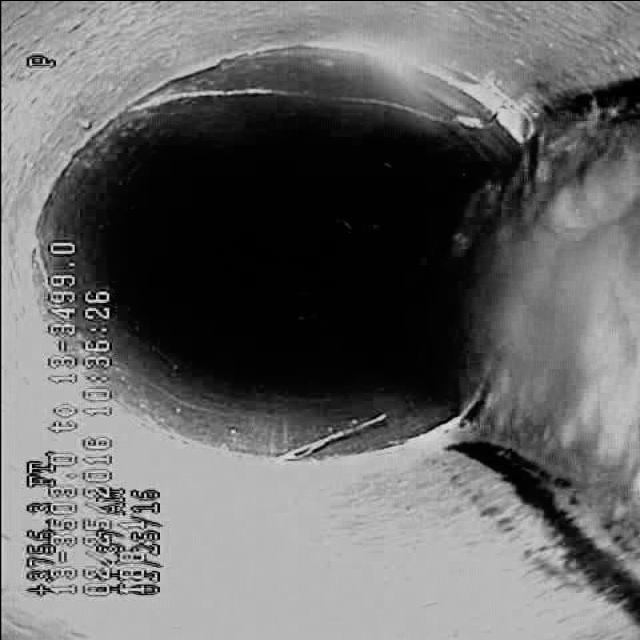Crack: (130, 76, 482, 121), (265, 402, 389, 460)
